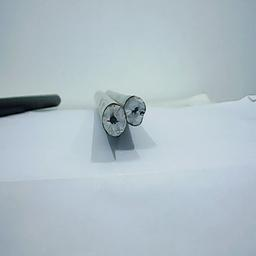pen: (101, 104, 124, 136), (126, 97, 147, 124)
